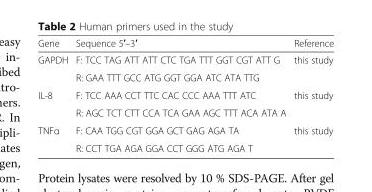table: (37, 37, 333, 153)
table column: (71, 37, 289, 153), (289, 37, 333, 153), (37, 37, 71, 153)
table column header: (37, 37, 333, 51)
table row: (37, 120, 333, 139), (37, 85, 333, 103), (37, 51, 333, 68), (37, 68, 333, 85), (37, 103, 333, 120), (37, 37, 333, 51), (37, 139, 333, 153)
table spanning cell: (289, 85, 333, 120), (289, 51, 333, 85), (289, 120, 333, 153), (37, 85, 71, 120), (37, 51, 71, 85), (37, 120, 71, 153)
